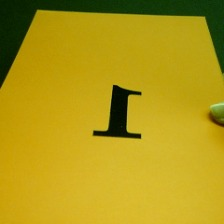orange1: (86, 80, 147, 147)
